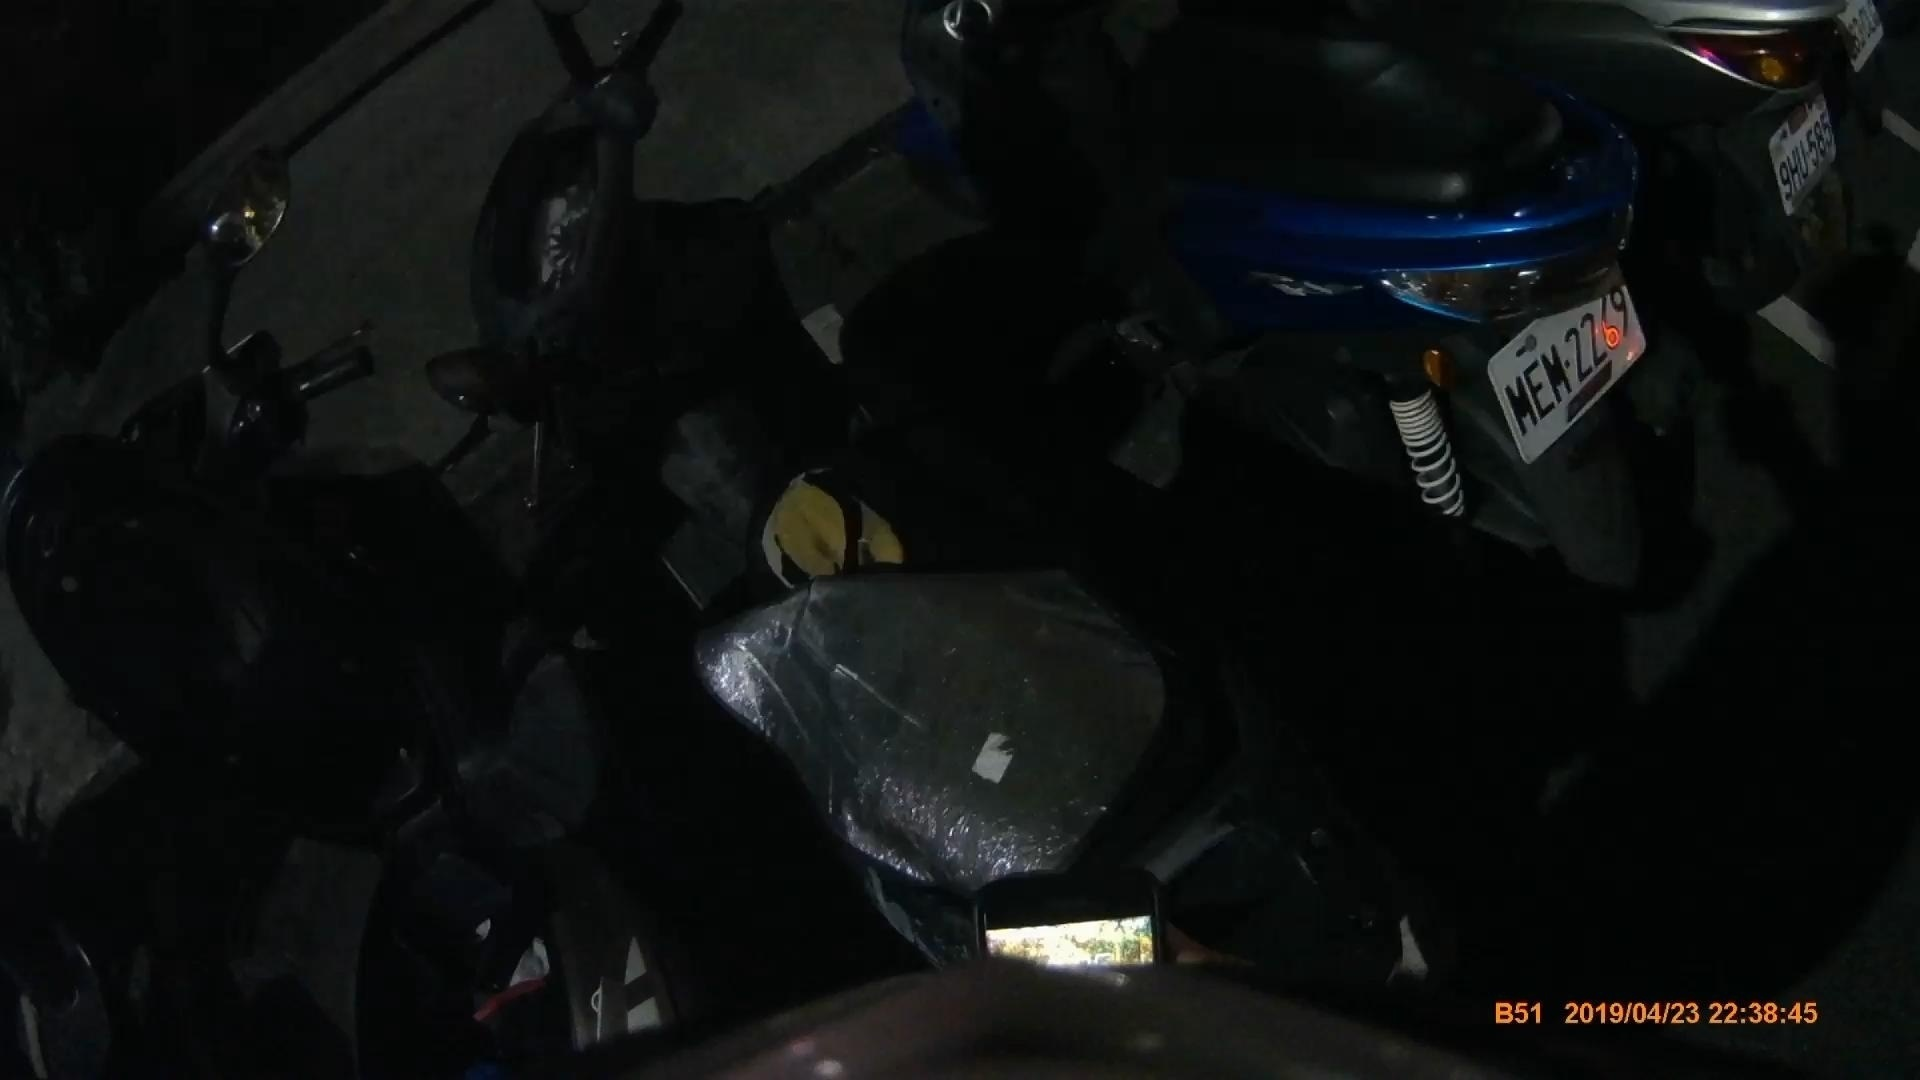License_plate: (1461, 280, 1660, 460), (1752, 88, 1845, 221)
